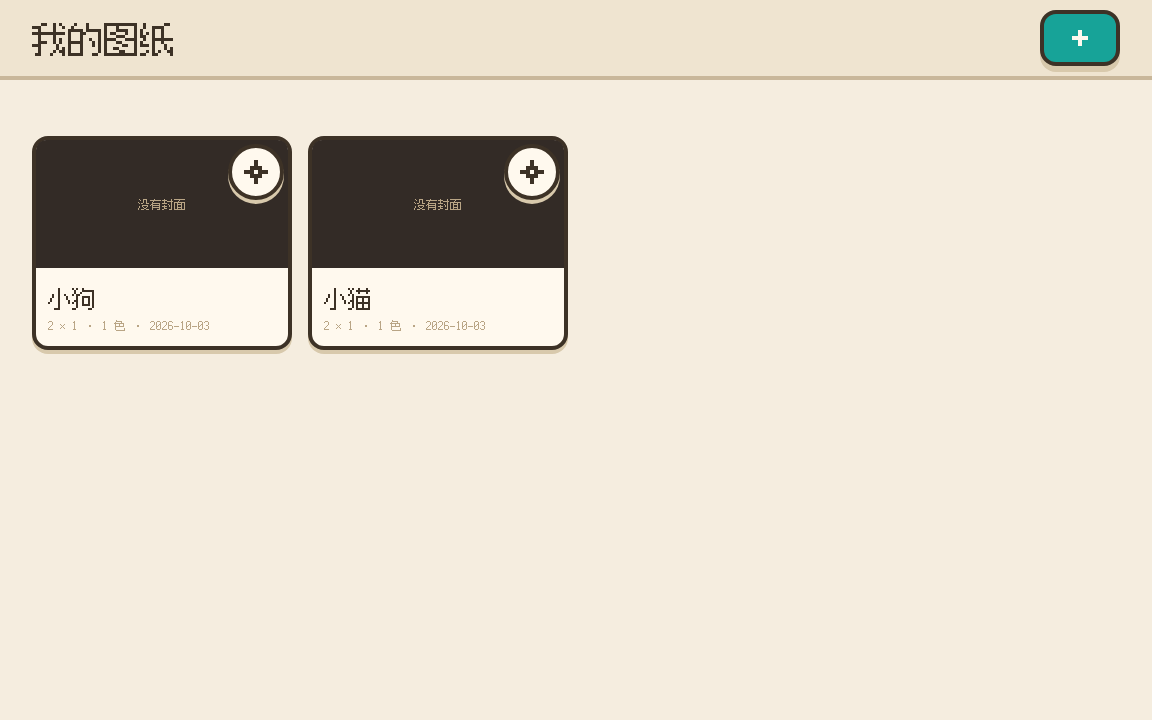
LibraryPage › 删除必须二次确认，确认后该条消失
Click the button with test id "card-menu" at (256, 172), box [228,144,284,200]
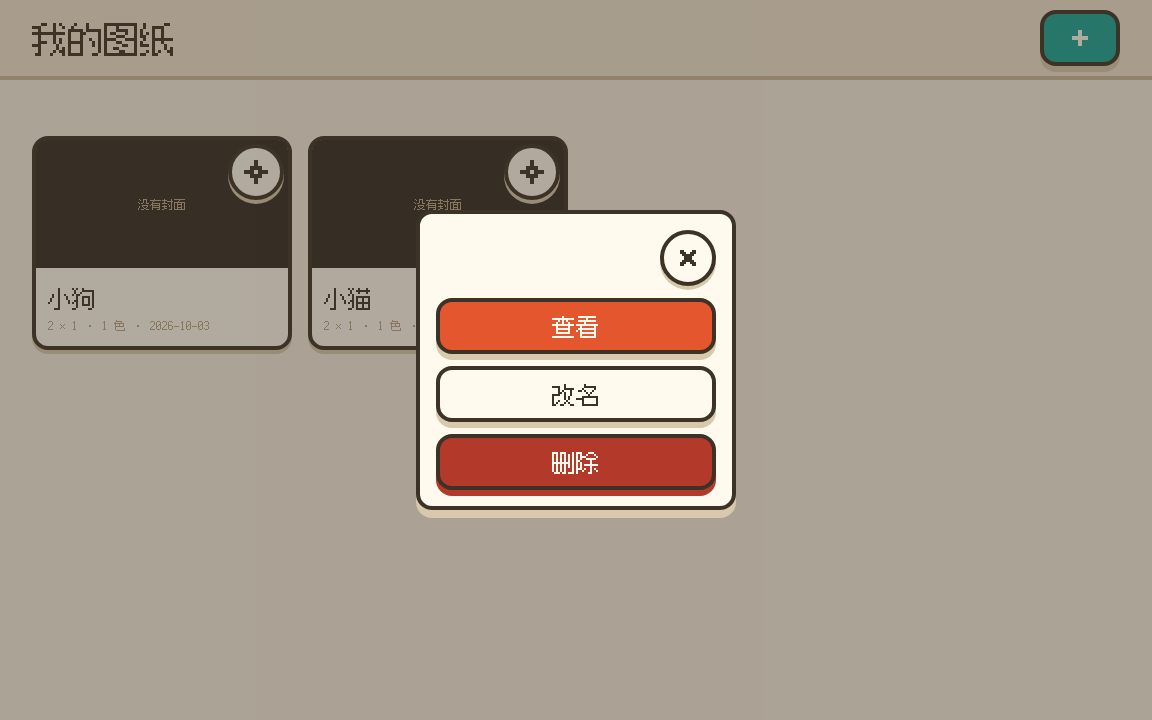
Click the button with test id "delete-project" at (576, 462), box [436,434,716,490]
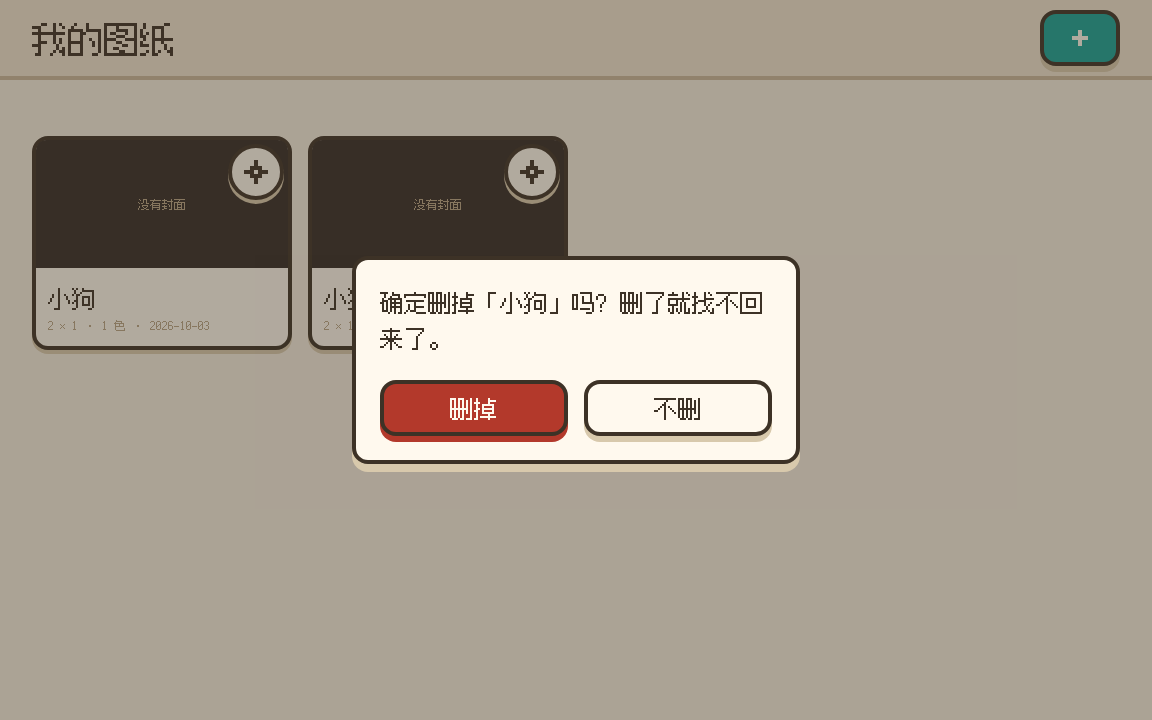
Expected: the number of list items with test id "project-card" is 2, [32,136,292,350]; [308,136,568,350]
Now the element with test id "confirm-dialog" shows "小狗", box [380,286,764,354]
Click the button with test id "delete-confirm" at (474, 408), box [380,380,568,436]
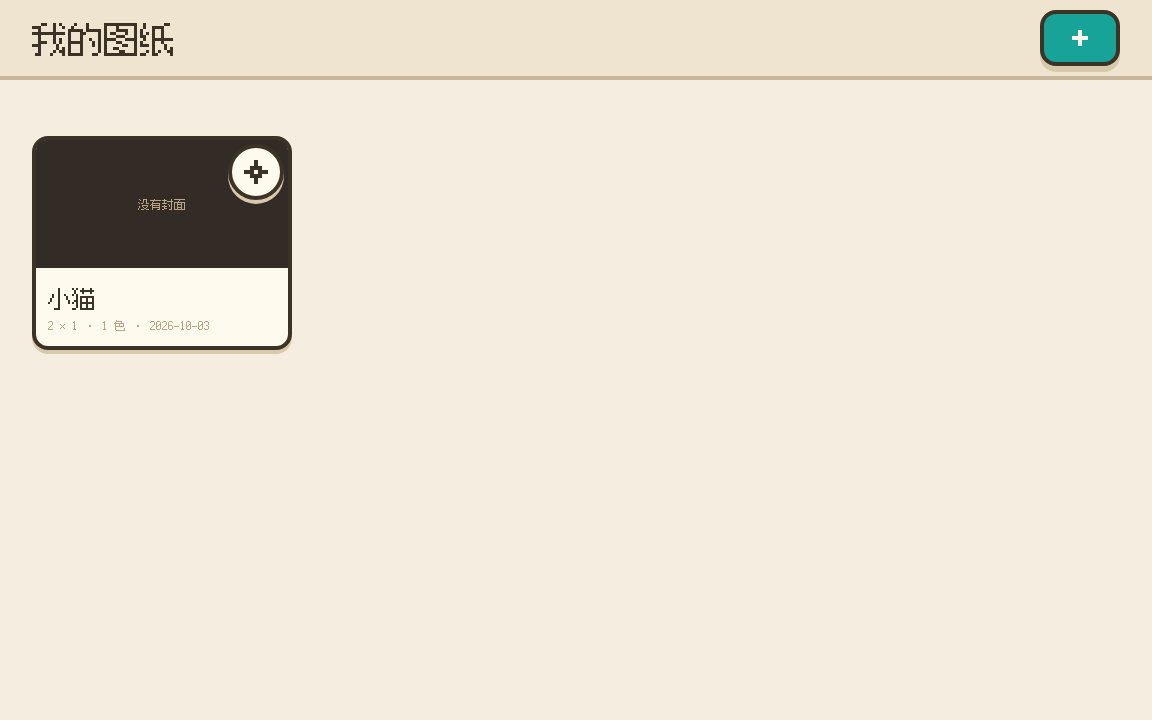
Now the elements with test id "project-name" read "小猫", in this order, box [48,282,96,314]
